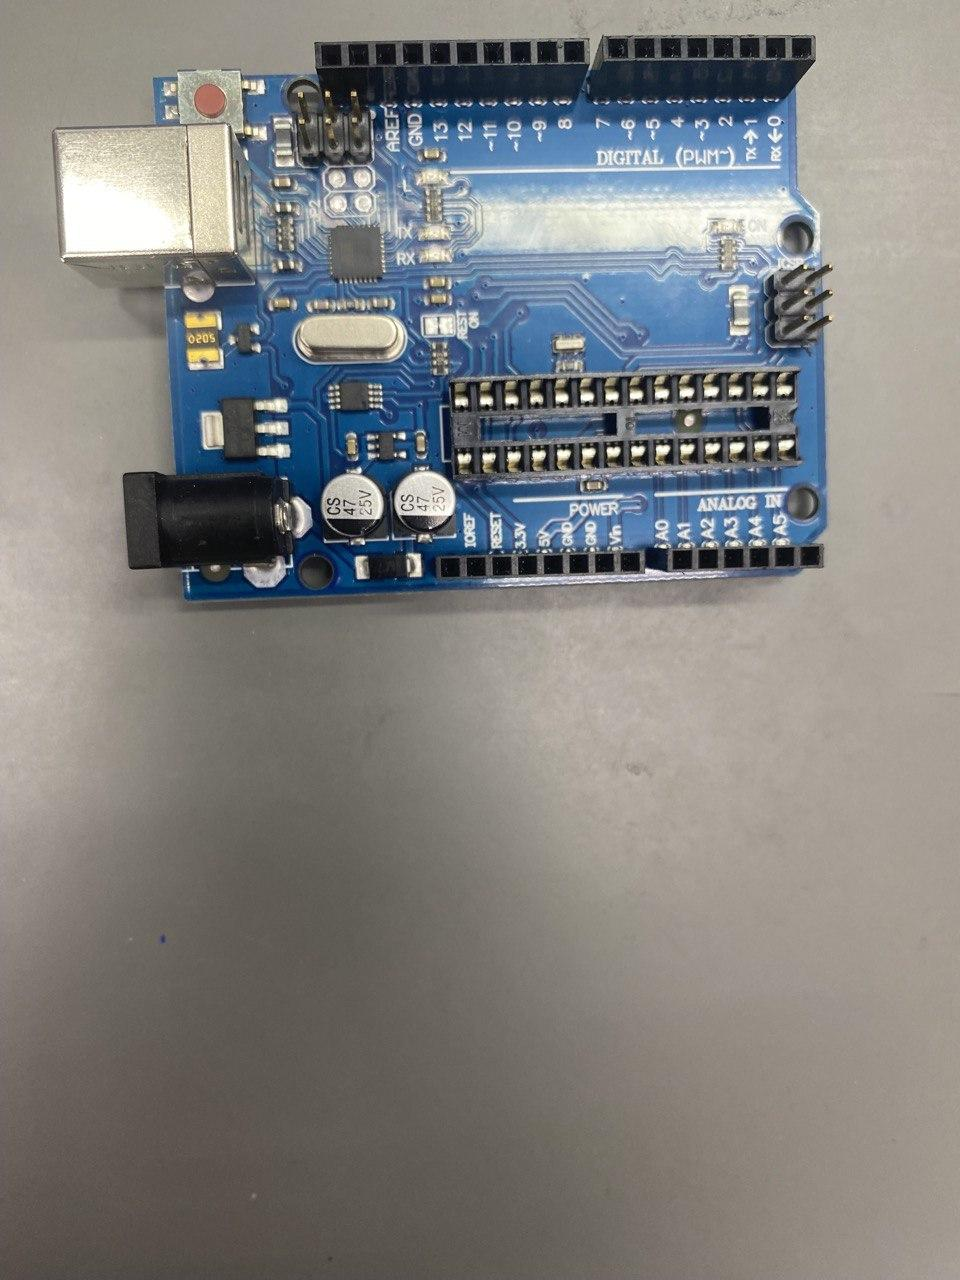Arduino board: (51, 35, 833, 604)
USB: (52, 123, 257, 289)
capacitor: (321, 472, 388, 543), (391, 470, 457, 537)
pins: (314, 38, 590, 106), (586, 35, 816, 102), (437, 550, 644, 580), (645, 543, 824, 572)
resistor: (275, 217, 294, 253), (425, 188, 443, 223), (432, 342, 449, 377), (720, 239, 736, 271)
